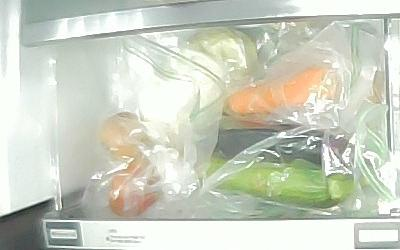cabbage_vinyl: (175, 27, 263, 91)
carrot_vinyl: (226, 65, 344, 115)
eggplant_vinyl: (199, 125, 368, 169)
tomato_vinyl: (98, 110, 157, 160), (107, 164, 163, 215)
zucchini_vinyl: (197, 158, 368, 209)
